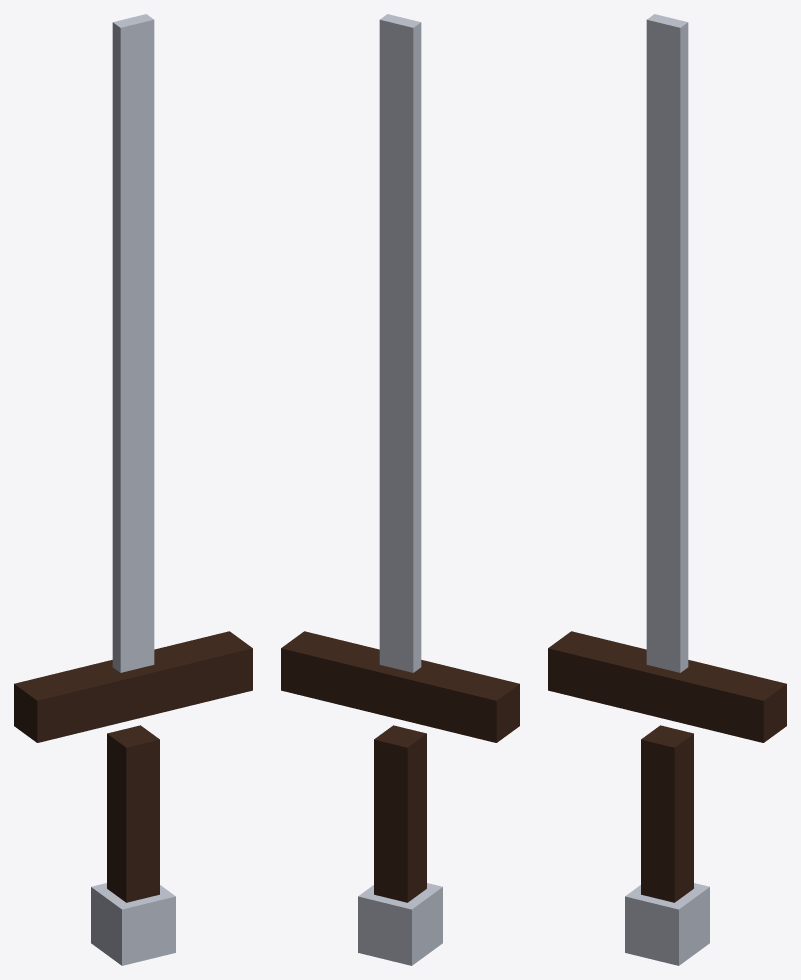
Rendered from wpn_sword_steel.obj.
3 renders of one model, left to right at view 1: azimuth 30°, elevation 25°; view 2: azimuth 150°, elevation 25°; view 3: azimuth 330°, elevation 25°, orthographic.
Visible parts, largest first — view 1: blade, guard, hilt, pommel; view 2: blade, guard, hilt, pommel; view 3: blade, guard, hilt, pommel.
Part boxes in pixels (bbox=[...]): blade: bbox=[112, 14, 154, 672]; guard: bbox=[14, 631, 252, 742]; hilt: bbox=[107, 725, 159, 902]; pommel: bbox=[91, 883, 175, 965]; blade: bbox=[379, 14, 421, 672]; guard: bbox=[281, 631, 519, 742]; hilt: bbox=[374, 725, 426, 902]; pommel: bbox=[358, 883, 442, 965]; blade: bbox=[646, 14, 688, 672]; guard: bbox=[548, 631, 786, 742]; hilt: bbox=[641, 725, 693, 902]; pommel: bbox=[625, 883, 709, 965].
Size of the model in its own units: 0.32 by 1.32 by 0.08.
